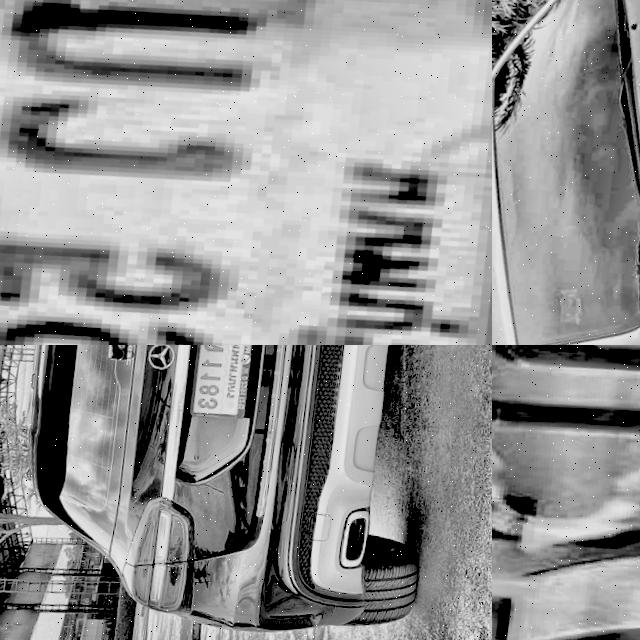license-plate: (0, 0, 492, 345), (492, 345, 640, 640), (178, 345, 267, 430)
